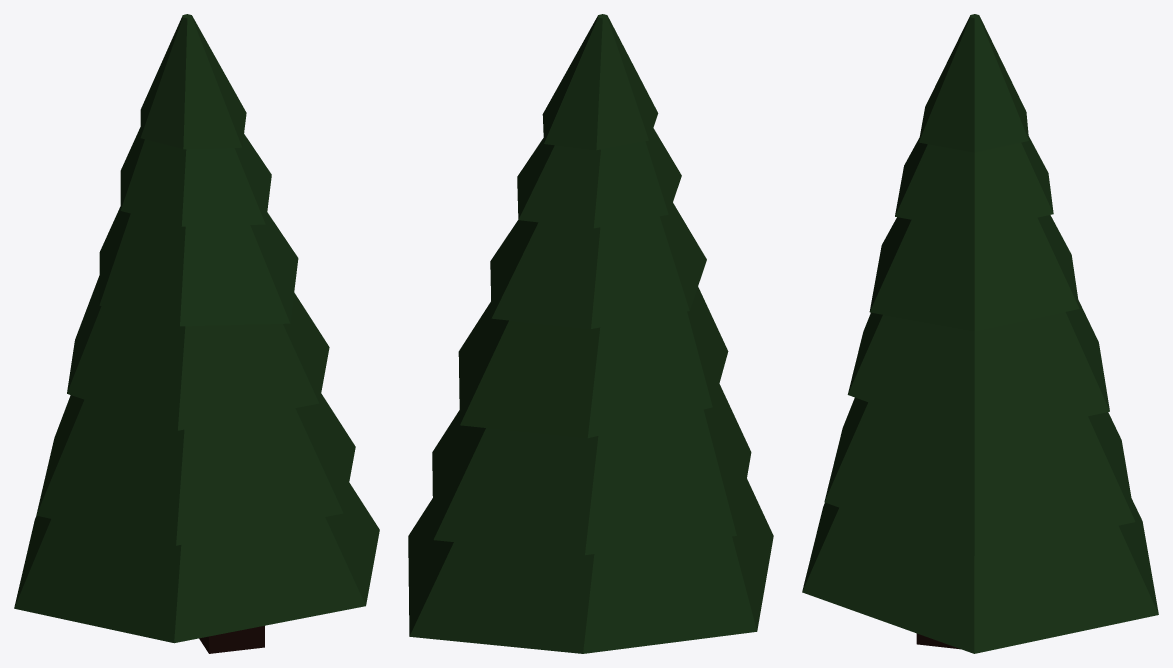
File: Tree04.FBX
3 views of the same model, side by side, from view 1: azimuth 30°, elevation 25°; view 2: azimuth 150°, elevation 25°; view 3: azimuth 270°, elevation 25° (orthographic). The views are drawn at different scales.
Parts seen in each view (by area): view 1: Pine Tree; view 2: Pine Tree; view 3: Pine Tree.
Part boxes in pixels (box(x1,y1,x2,y2)): Pine Tree: box(14, 14, 379, 653); Pine Tree: box(408, 14, 773, 653); Pine Tree: box(802, 14, 1158, 653).
Bounding box in the file's own units: 87.67 × 147 × 78.25.
